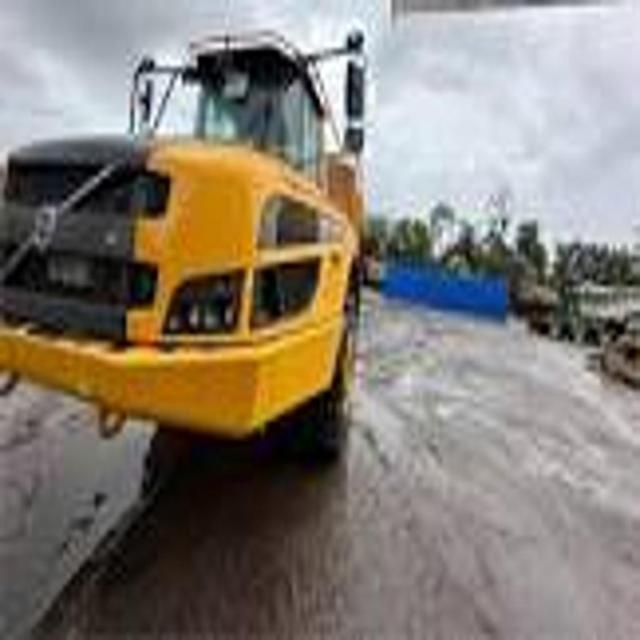dump_truck: (0, 19, 389, 477)
